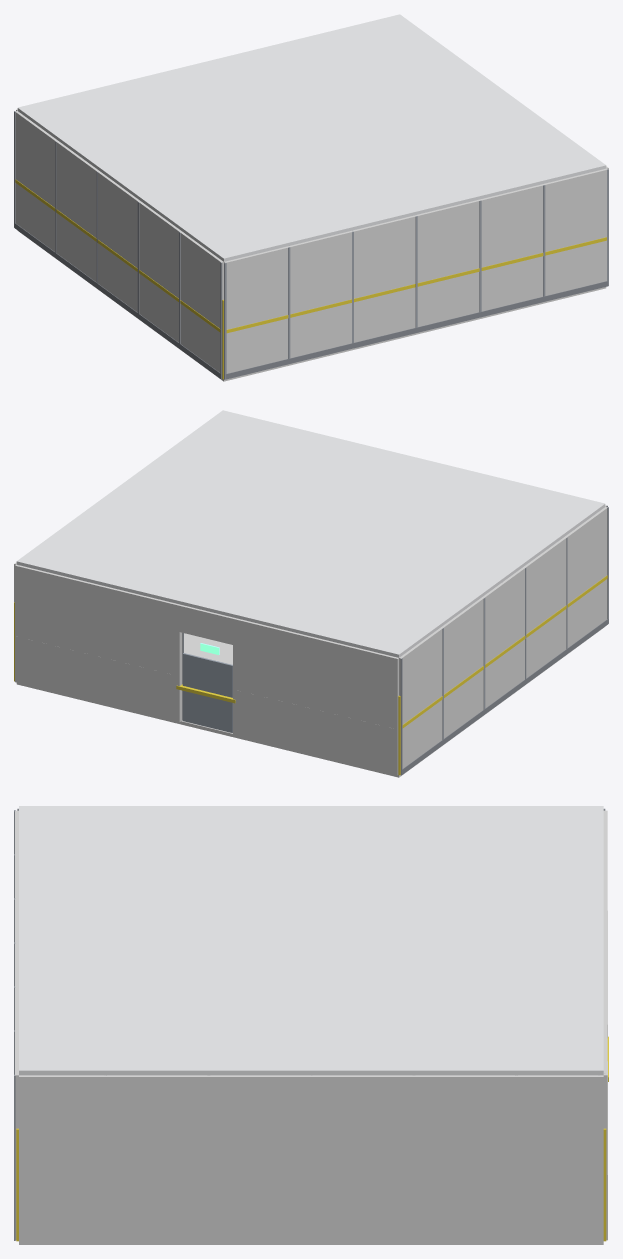
File: APD_Room.fbx
The picture shows the model from 3 angles, top to bottom: view 1: azimuth 30°, elevation 25°; view 2: azimuth 150°, elevation 25°; view 3: azimuth 270°, elevation 25°; orthographic projection. The views are drawn at different scales.
Visible parts, largest first — view 1: Ceiling, Wall_Back_core, Wall_Back_dado, Wall_Left_core, Wall_Left_dado, Wall_Back_skirt, Wall_Back_band, Wall_Left_skirt, Floor, Wall_Left_band; view 2: Ceiling, Wall_Left_core, Wall_Front_R_core, Wall_Front_L_core, Wall_Left_dado, Wall_Front_L_dado, Wall_Front_R_dado, Door, Floor, Front_Header, Wall_Left_skirt, Wall_Left_band; view 3: Ceiling, Wall_Right_core, Wall_Right_dado, Floor, Wall_Back_core, Wall_Front_R_core.
Boxes of the visible parts, x1,y1,x2,y2 form: Ceiling: [17, 14, 606, 261]; Wall_Back_core: [224, 168, 606, 329]; Wall_Back_dado: [226, 240, 606, 373]; Wall_Left_core: [15, 111, 223, 328]; Wall_Left_dado: [15, 183, 220, 372]; Wall_Back_skirt: [225, 281, 607, 379]; Wall_Back_band: [226, 237, 606, 333]; Wall_Left_skirt: [14, 223, 220, 378]; Floor: [18, 231, 606, 381]; Wall_Left_band: [15, 179, 220, 332]; Ceiling: [16, 410, 605, 657]; Wall_Left_core: [399, 507, 607, 724]; Wall_Front_R_core: [15, 564, 182, 721]; Wall_Front_L_core: [233, 618, 398, 774]; Wall_Left_dado: [402, 579, 607, 768]; Wall_Front_L_dado: [233, 689, 398, 775]; Wall_Front_R_dado: [15, 636, 181, 722]; Door: [182, 653, 232, 732]; Floor: [16, 627, 604, 777]; Front_Header: [176, 604, 237, 645]; Wall_Left_skirt: [402, 619, 608, 774]; Wall_Left_band: [402, 575, 607, 728]; Ceiling: [19, 806, 603, 1075]; Wall_Right_core: [19, 1075, 603, 1176]; Wall_Right_dado: [19, 1177, 603, 1241]; Floor: [19, 1242, 603, 1244]; Wall_Back_core: [15, 810, 18, 1239]; Wall_Front_R_core: [603, 963, 607, 1239].
Size of the model in its own units: 1238 by 375 by 1160.
